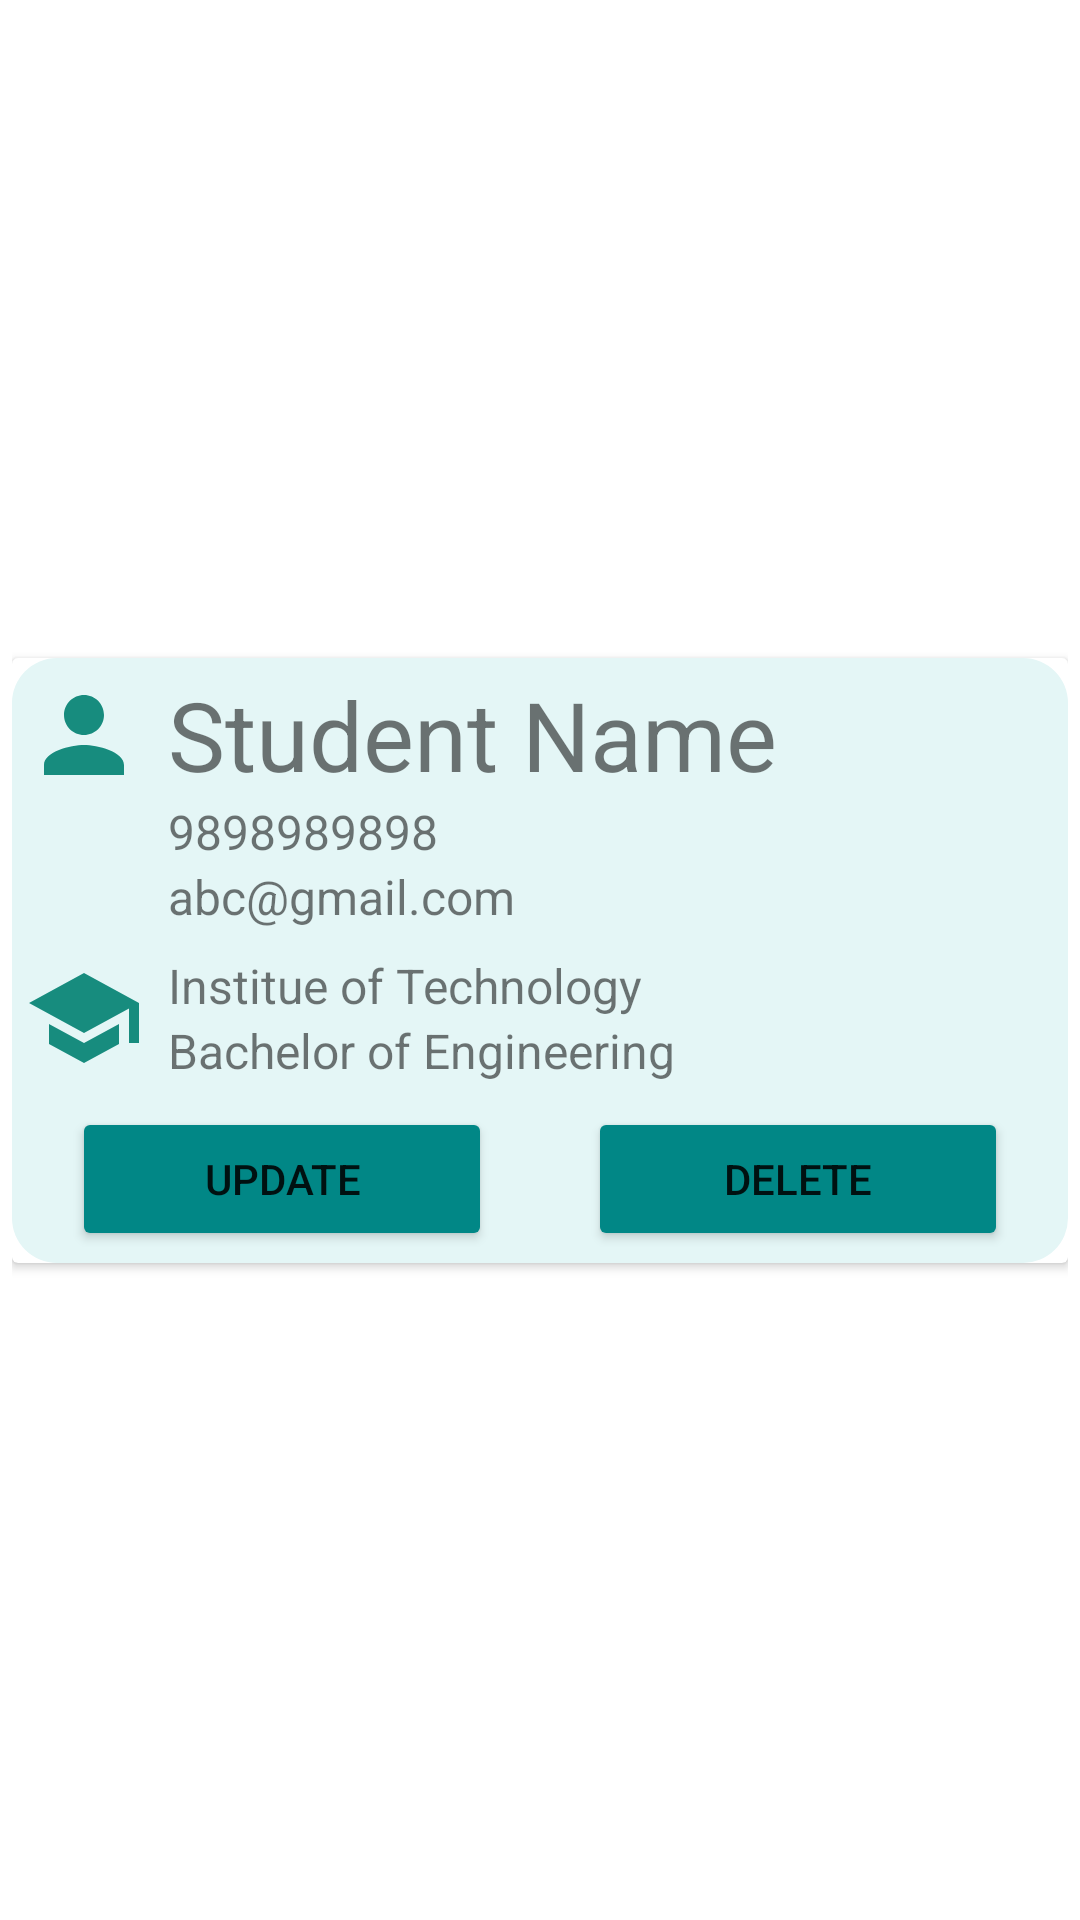

Icons on this 1080x1920 Android screen, each with the point to tap as [x,y]:
person: [84,735]
school: [84,1018]
